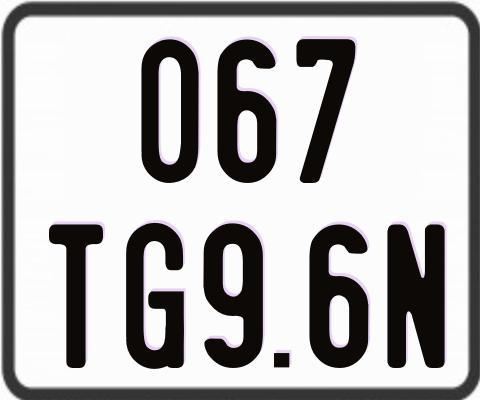0: (138, 39, 199, 186)
6: (216, 38, 276, 182), (308, 221, 368, 365)
7: (294, 36, 359, 183)
9: (201, 221, 266, 370)
G: (126, 222, 189, 368)
N: (385, 222, 444, 366)
T: (48, 224, 106, 373)
